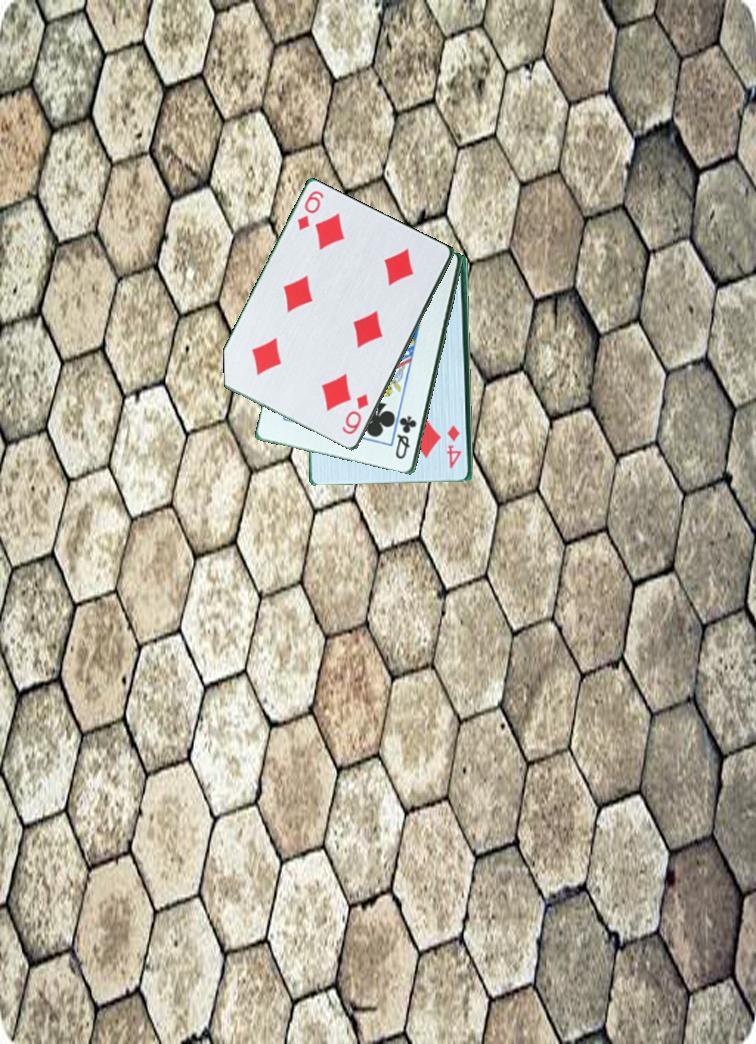4d: (446, 422, 465, 472)
6d: (338, 391, 373, 438), (294, 185, 327, 234)
qc: (392, 412, 420, 462)
